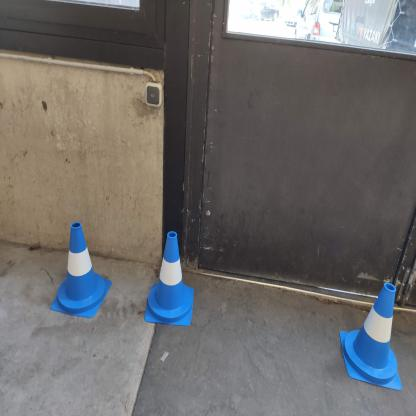Cones_small_blue: (318, 265, 408, 401), (44, 210, 118, 334), (141, 231, 199, 326)
